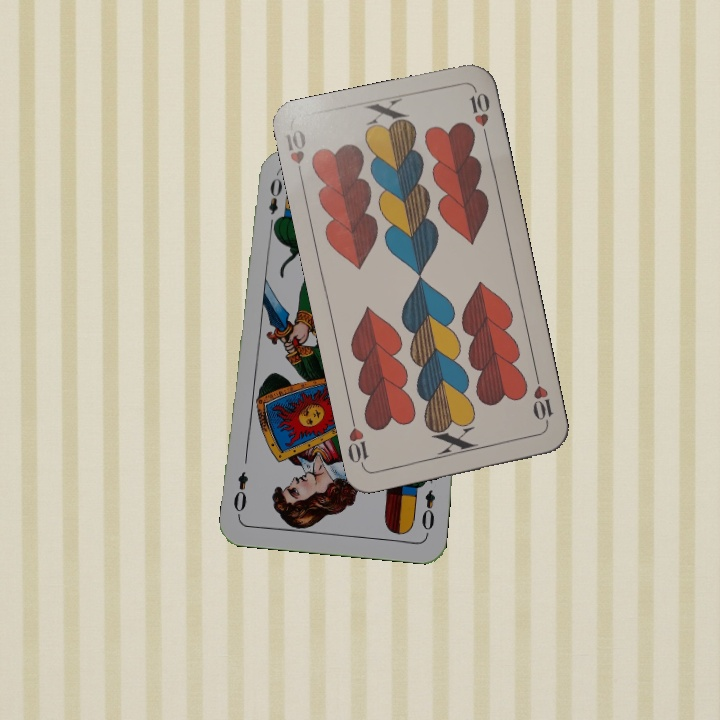EO: (264, 174, 285, 232), (418, 486, 438, 538)
H10: (528, 370, 556, 429), (281, 125, 309, 184)
